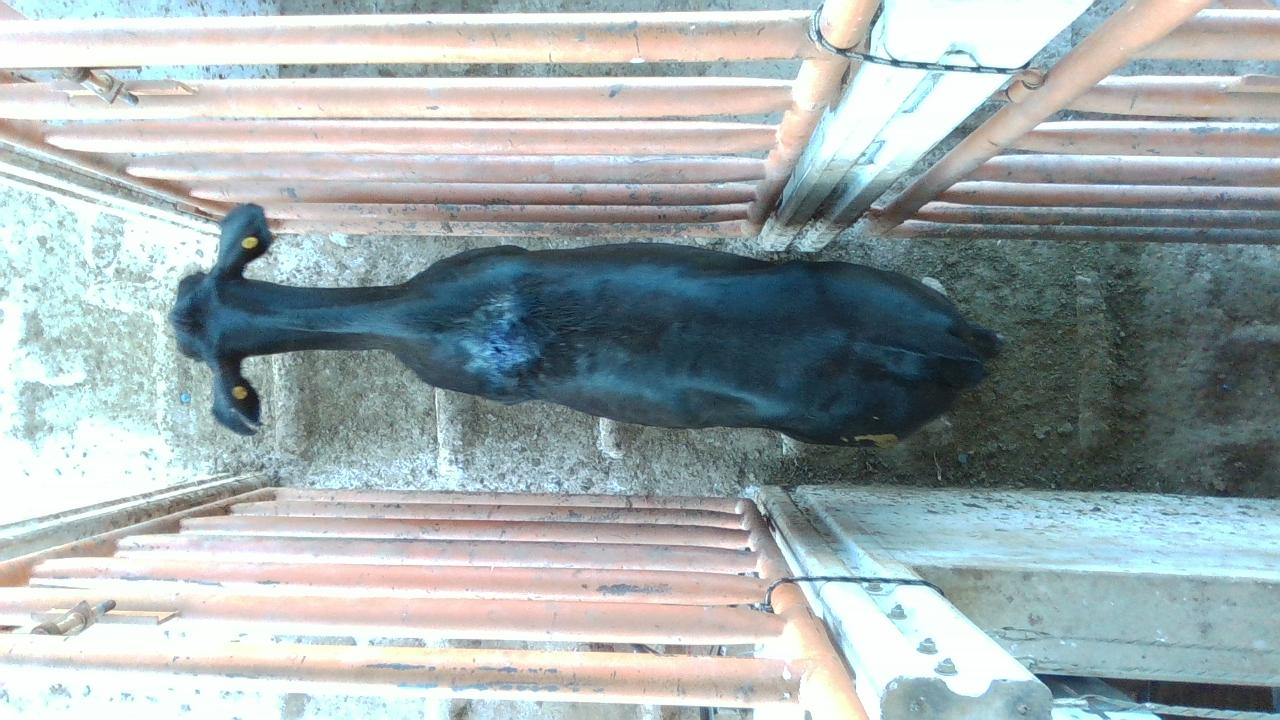cattle: (167, 201, 1004, 447)
